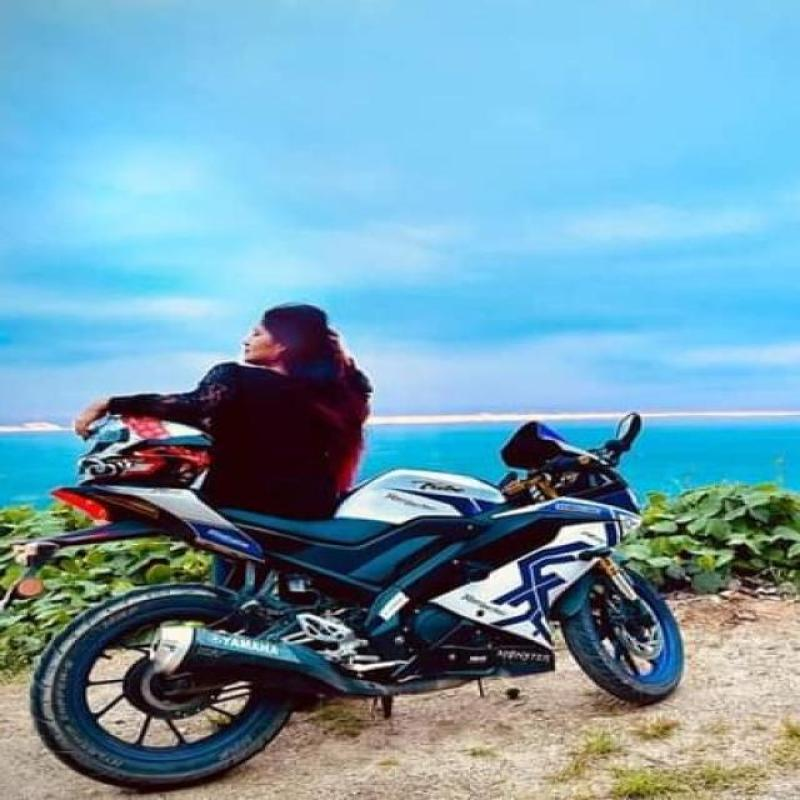nohelmet: (230, 293, 345, 376)
